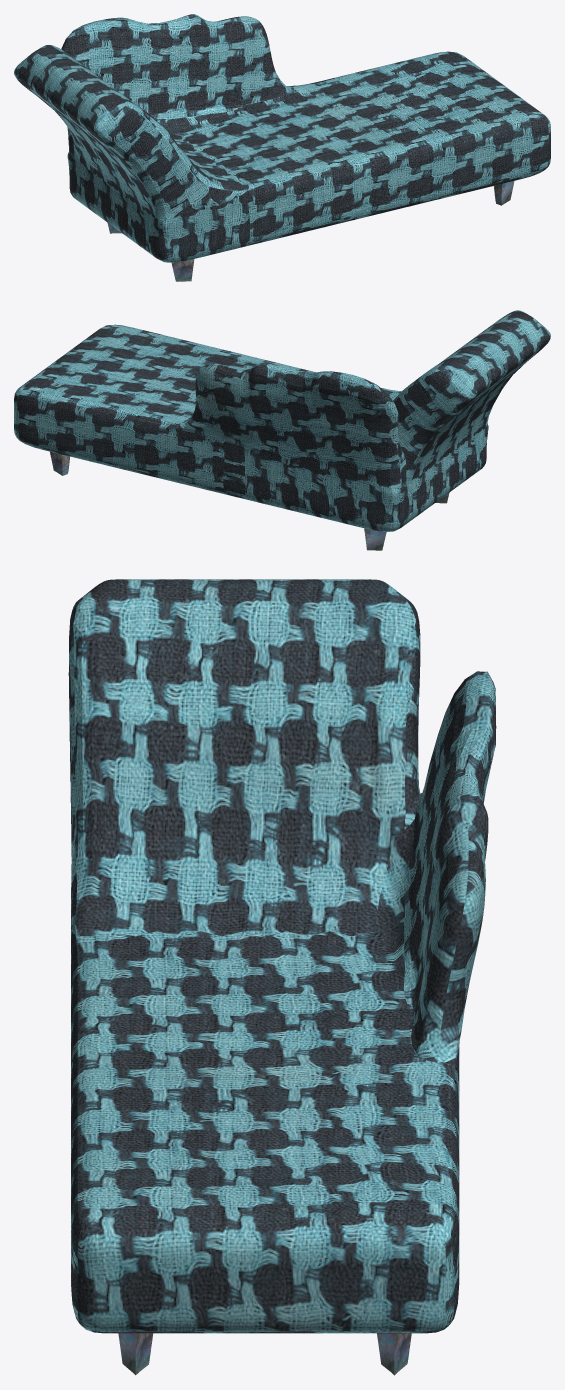
Rendered from OttomanChair.fbx.
3 renders of one model, top to bottom at view 1: azimuth 30°, elevation 25°; view 2: azimuth 150°, elevation 25°; view 3: azimuth 270°, elevation 25°, orthographic. The views are drawn at different scales.
Parts seen in each view (by area): view 1: Box001; view 2: Box001; view 3: Box001.
Boxes of the visible parts, x1=… form: Box001: x1=14, y1=14, x2=550, y2=281; Box001: x1=14, y1=310, x2=550, y2=550; Box001: x1=68, y1=579, x2=496, y2=1375.
Size of the model in its own units: 209 by 89.13 by 85.88.
